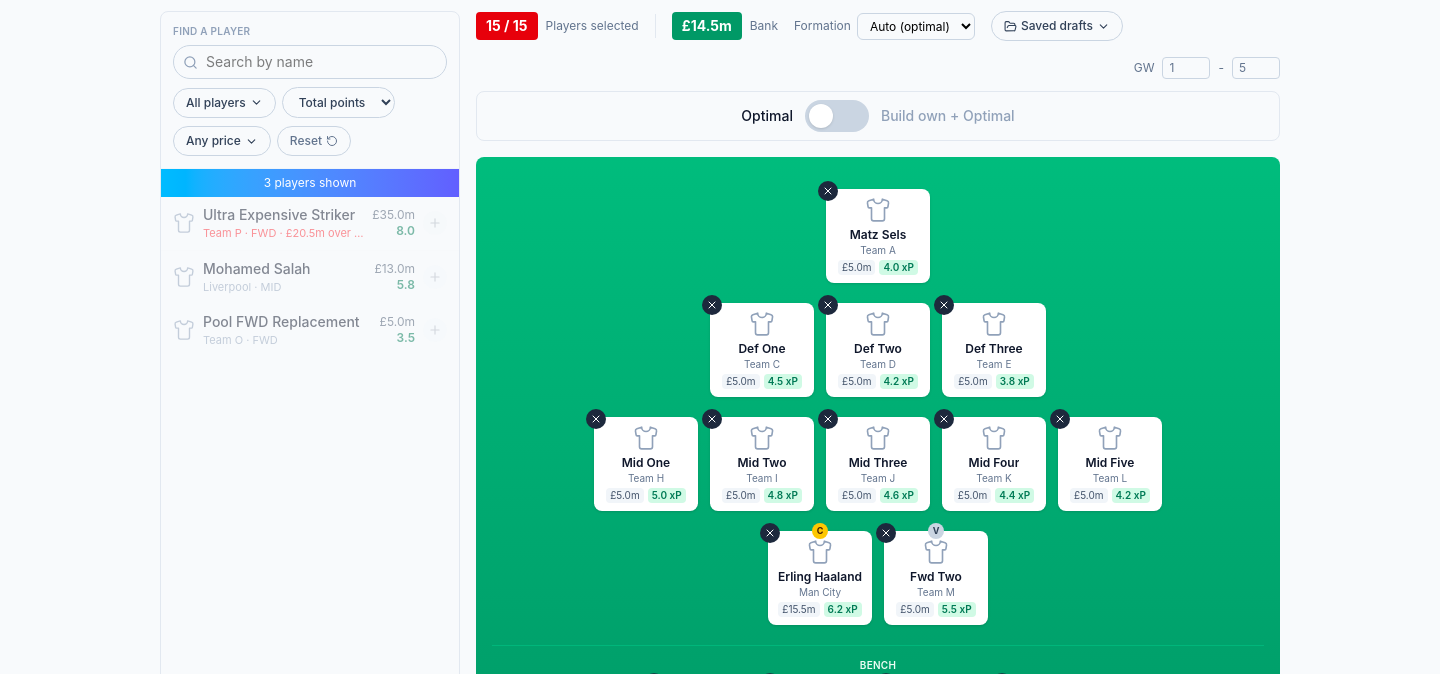
it: SquadBuilder › Reset team empties every slot and clears locks
Click the switch named "toggle lock mode" at (837, 116), box [805,100,869,132]
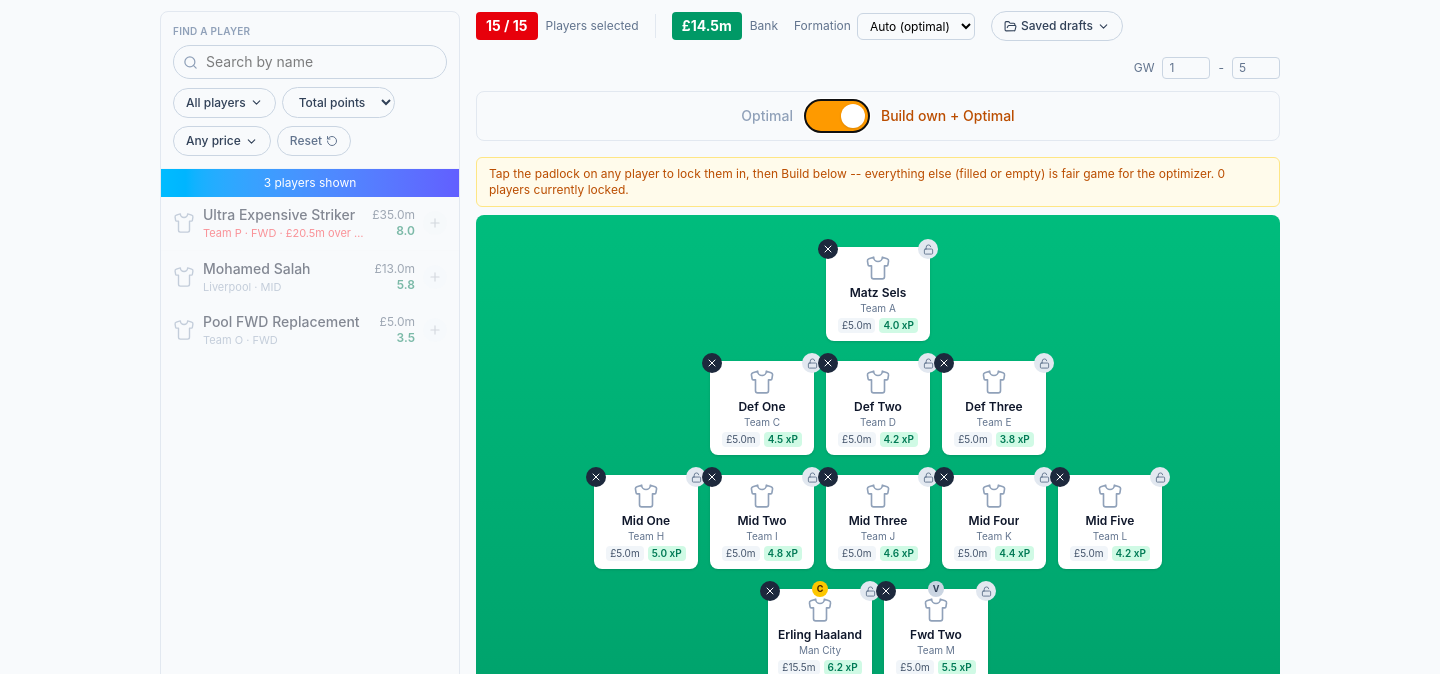
Click the button named "Lock Erling Haaland" at (870, 591), box [860,581,880,601]
(page scrolled)
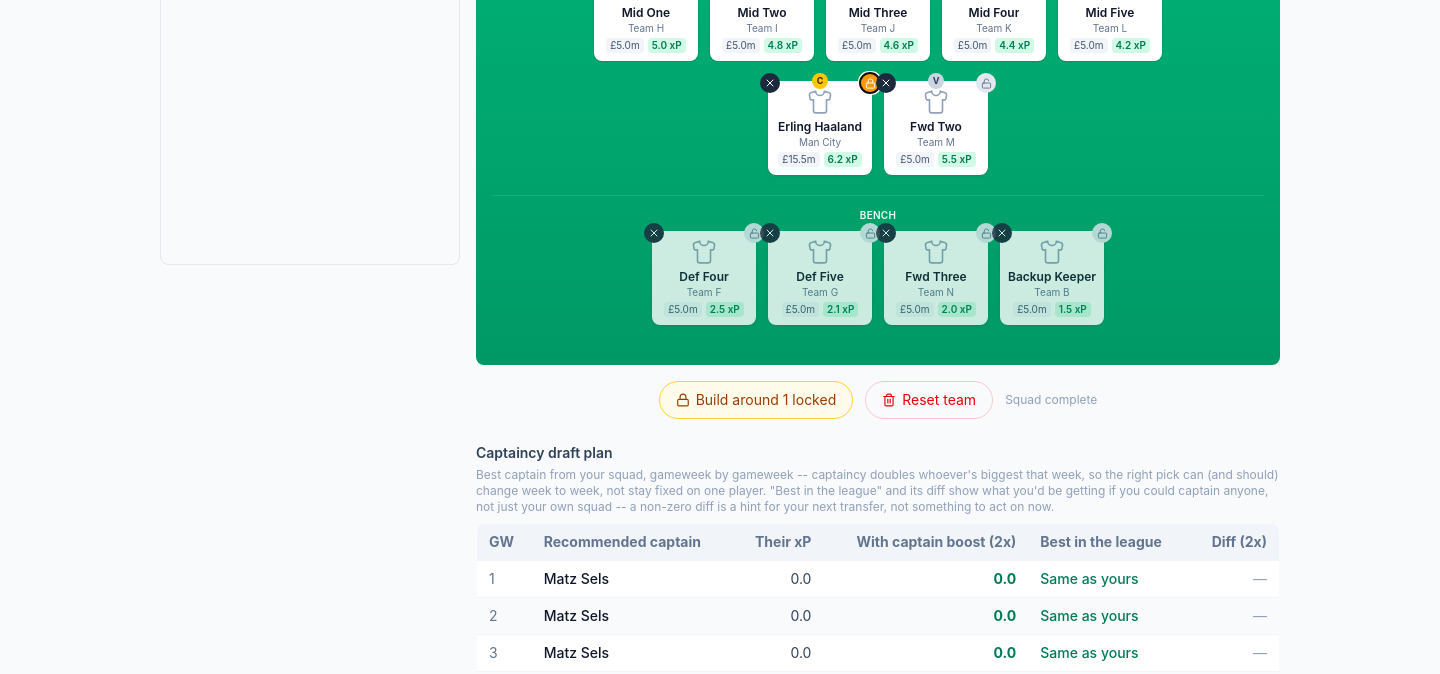
Click the button "Reset team" at (929, 400), box [865,381,993,419]
(page scrolled)
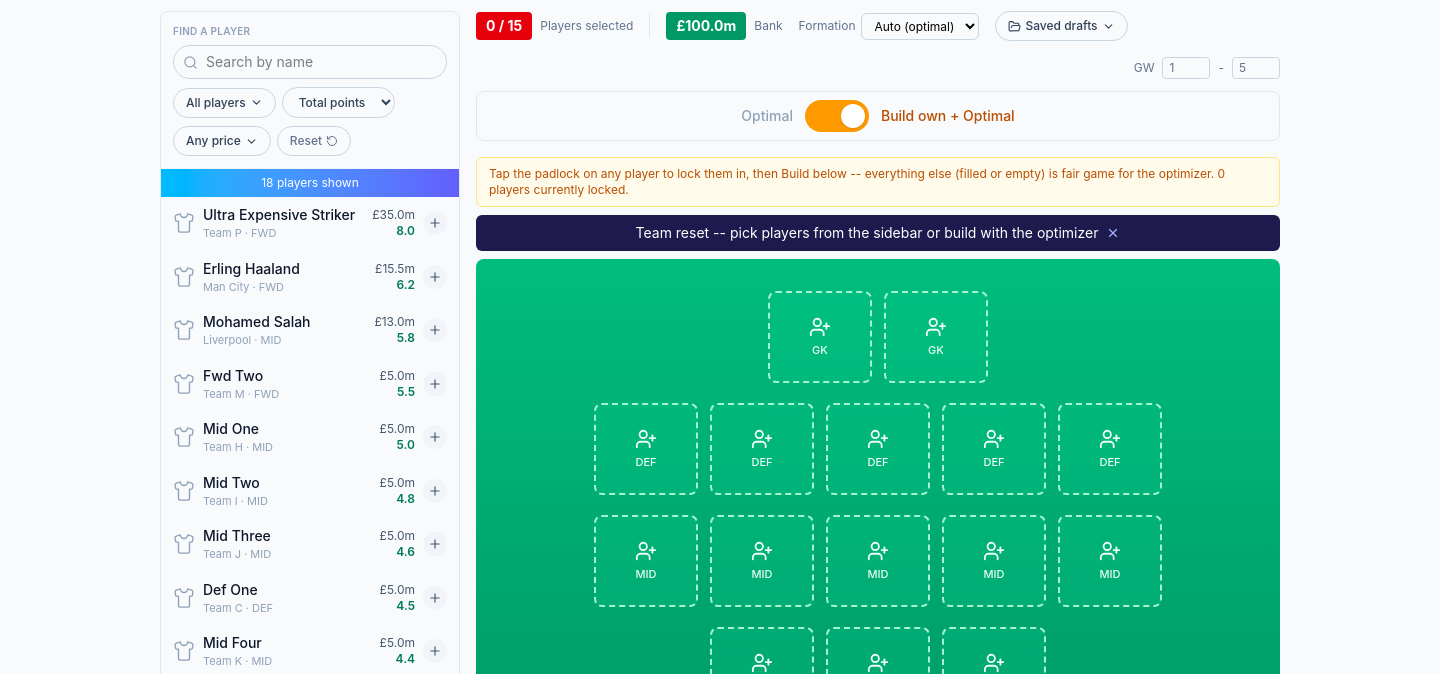
Now the text "0 / 15" is shown, box [476,12,532,40]
Now the text "0 players currently locked" is shown, box [476,157,1280,207]
